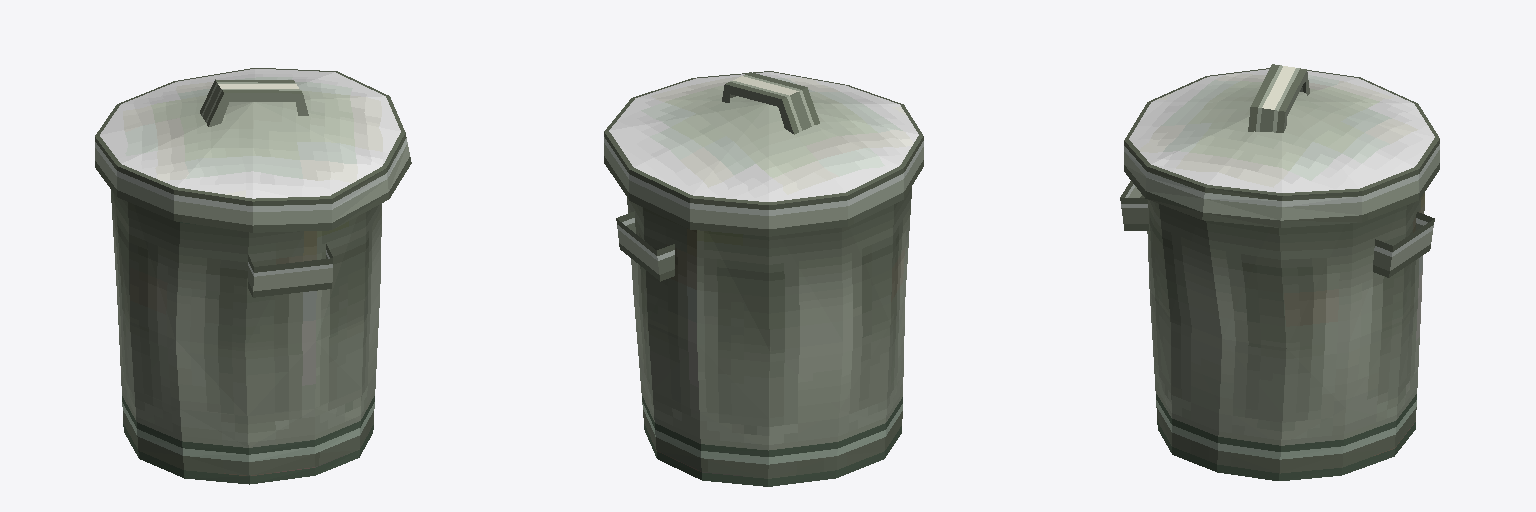
3 views of the same model, side by side, from view 1: azimuth 30°, elevation 25°; view 2: azimuth 150°, elevation 25°; view 3: azimuth 270°, elevation 25° (orthographic).
Visible parts, largest first — view 1: garbage_can; view 2: garbage_can; view 3: garbage_can.
Part boxes in pixels (bbox=[...]): garbage_can: bbox=[95, 68, 411, 484]; garbage_can: bbox=[604, 71, 923, 486]; garbage_can: bbox=[1120, 64, 1439, 480].
Bounding box in the file's own units: 0.9101 × 1.1 × 0.9171.
1 materials, 1 textured.